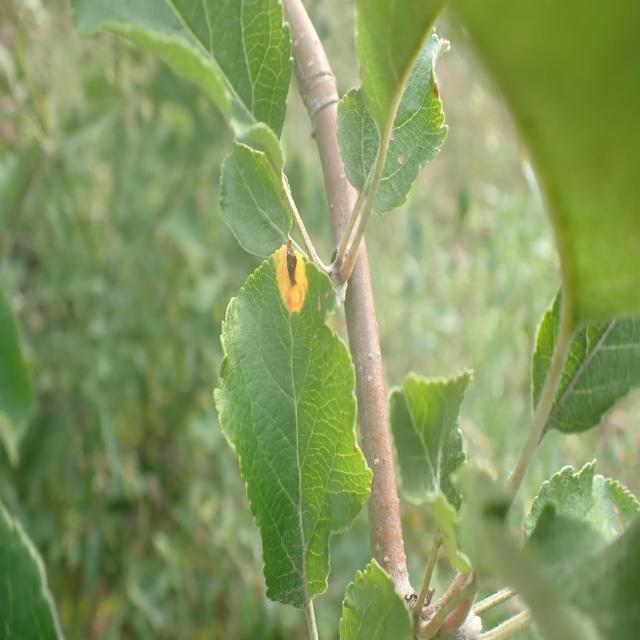Rust: (260, 227, 320, 325)
